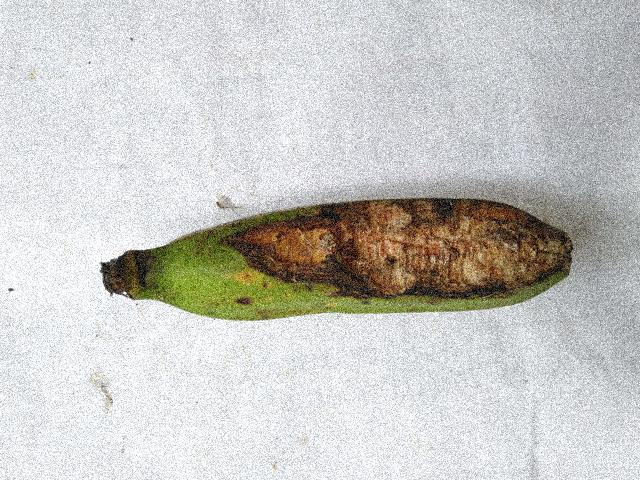rotten: (217, 184, 580, 332)
